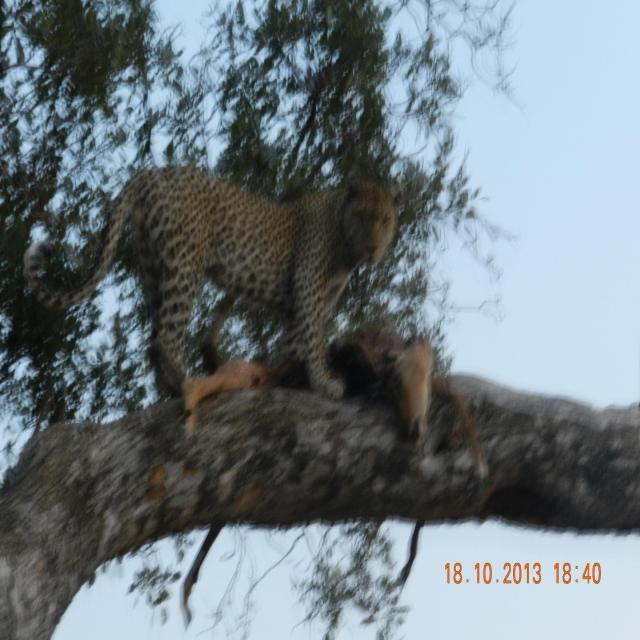Leopard: (111, 154, 395, 396)
